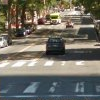crosswalk: (0, 81, 99, 93), (0, 58, 88, 68)
